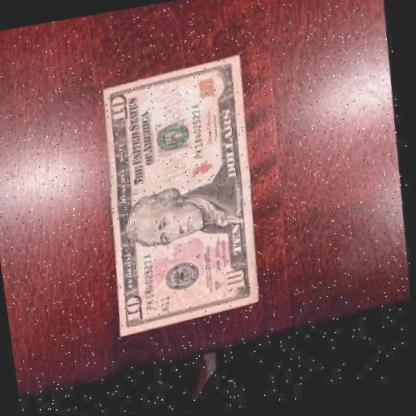ten-front: (84, 57, 282, 340)
